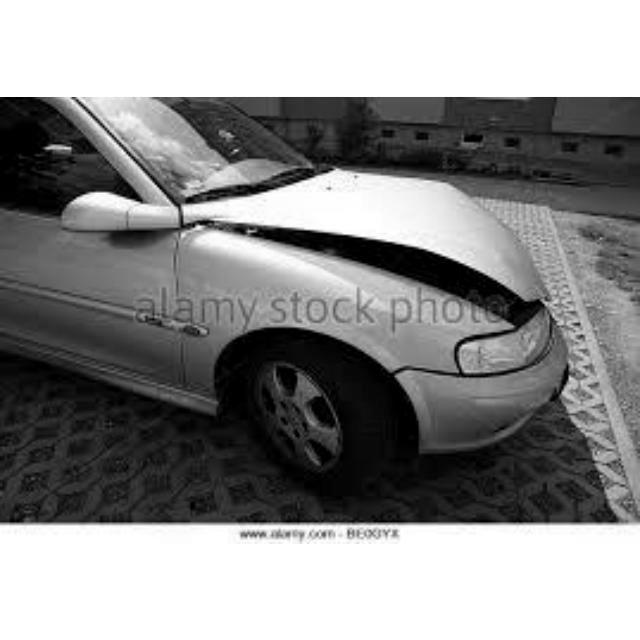bonnet-dent: (246, 173, 557, 294)
